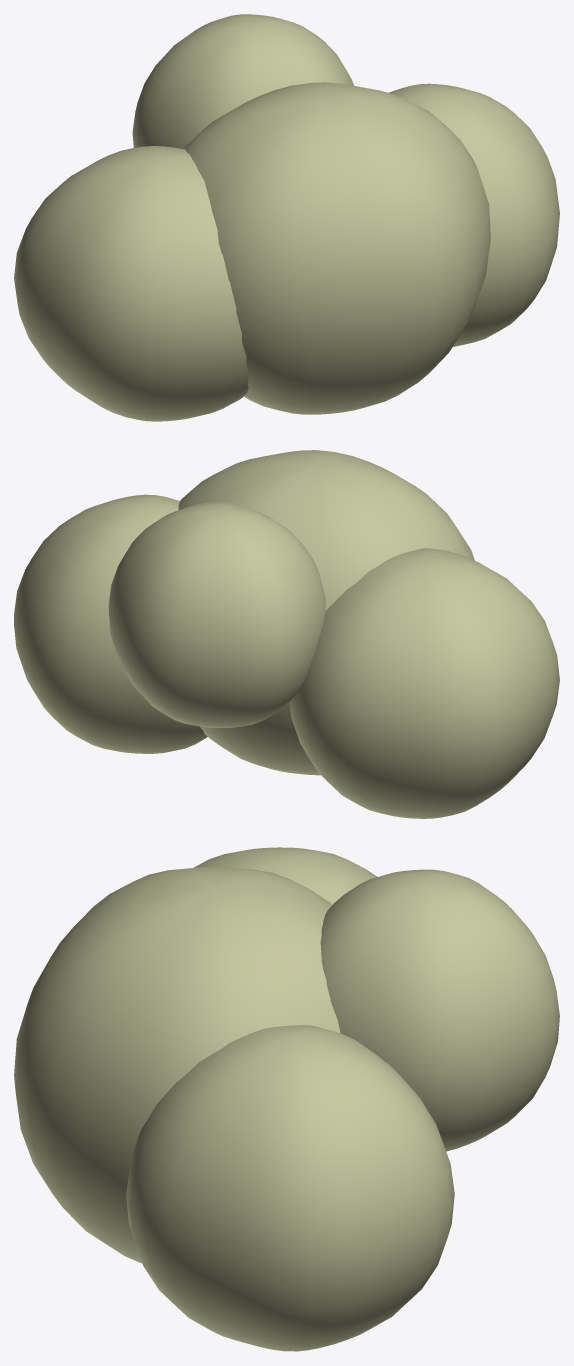
The model's file is cali-kompakt.glb.
3 renders of one model, top to bottom at view 1: azimuth 30°, elevation 25°; view 2: azimuth 150°, elevation 25°; view 3: azimuth 270°, elevation 25°, orthographic. The views are drawn at different scales.
Visible parts, largest first — view 1: 67P_PROP_BUSH_KOMPAKT_01_BODY; view 2: 67P_PROP_BUSH_KOMPAKT_01_BODY; view 3: 67P_PROP_BUSH_KOMPAKT_01_BODY.
Part boxes in pixels (x1,y1,x2,y2): 67P_PROP_BUSH_KOMPAKT_01_BODY: [14, 14, 559, 421]; 67P_PROP_BUSH_KOMPAKT_01_BODY: [14, 450, 559, 818]; 67P_PROP_BUSH_KOMPAKT_01_BODY: [14, 847, 559, 1351].
Size of the model in its own units: 1.28 by 0.746 by 0.9571.
